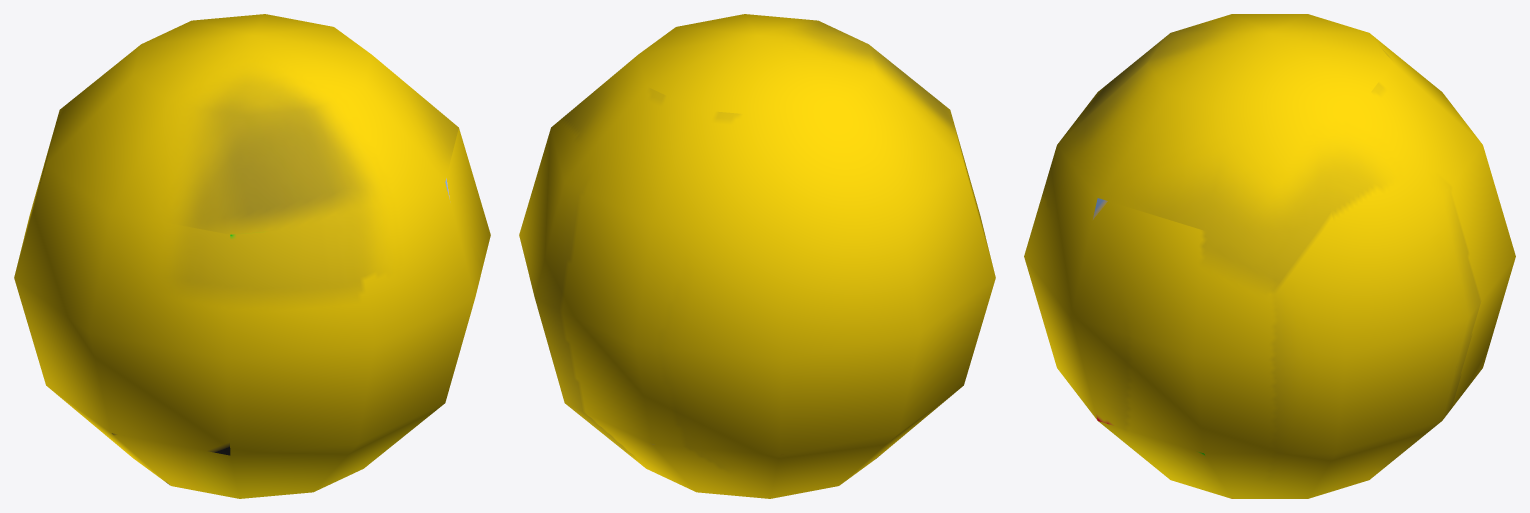
File: Ball.fbx
The picture shows the model from 3 angles, left to right: view 1: azimuth 30°, elevation 25°; view 2: azimuth 150°, elevation 25°; view 3: azimuth 270°, elevation 25°; orthographic projection.
Parts seen in each view (by area): view 1: Ball; view 2: Ball; view 3: Ball.
Boxes of the visible parts, bbox=[...] form: Ball: bbox=[14, 14, 490, 498]; Ball: bbox=[519, 14, 995, 498]; Ball: bbox=[1024, 14, 1515, 498].
Size of the model in its own units: 43.06 by 45.27 by 45.27.
